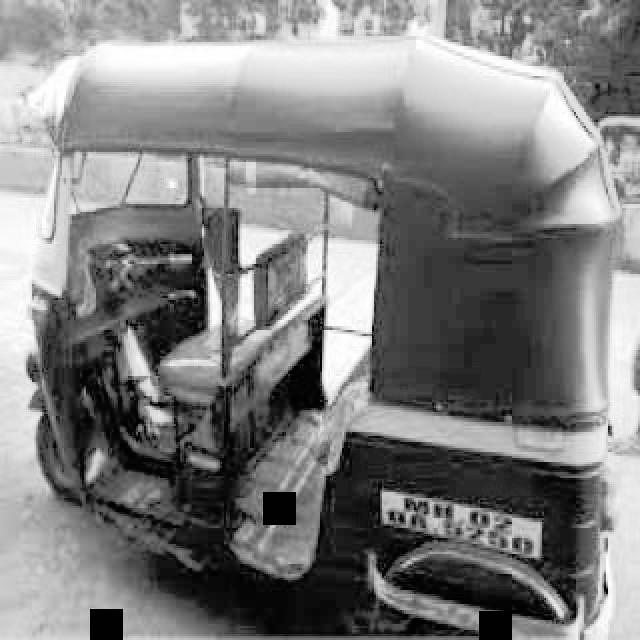Auto-Rickshaw: (12, 28, 612, 640)
